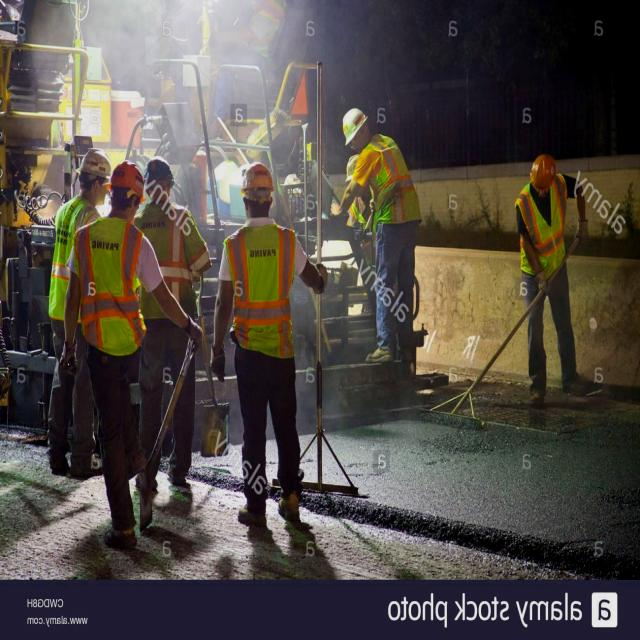hand_glove: (54, 333, 82, 377), (572, 208, 594, 250), (206, 340, 226, 384), (186, 314, 204, 355), (533, 263, 550, 303), (314, 254, 330, 296)
head_helmet: (524, 153, 559, 190), (78, 149, 114, 177), (238, 163, 274, 190), (341, 107, 365, 143), (147, 158, 179, 184), (111, 165, 142, 184)
person: (90, 180, 162, 534), (238, 166, 303, 521), (48, 152, 106, 481), (142, 158, 196, 511), (522, 154, 589, 408), (350, 104, 415, 365)
shoes: (134, 469, 164, 528), (97, 514, 141, 554), (232, 492, 270, 534), (160, 452, 193, 492), (275, 486, 308, 525), (68, 446, 106, 479), (561, 368, 597, 402), (362, 338, 402, 367), (518, 382, 548, 418)
vest: (234, 227, 294, 347), (81, 229, 137, 339), (361, 148, 418, 222), (48, 205, 90, 304), (518, 193, 569, 271), (154, 205, 196, 272)
